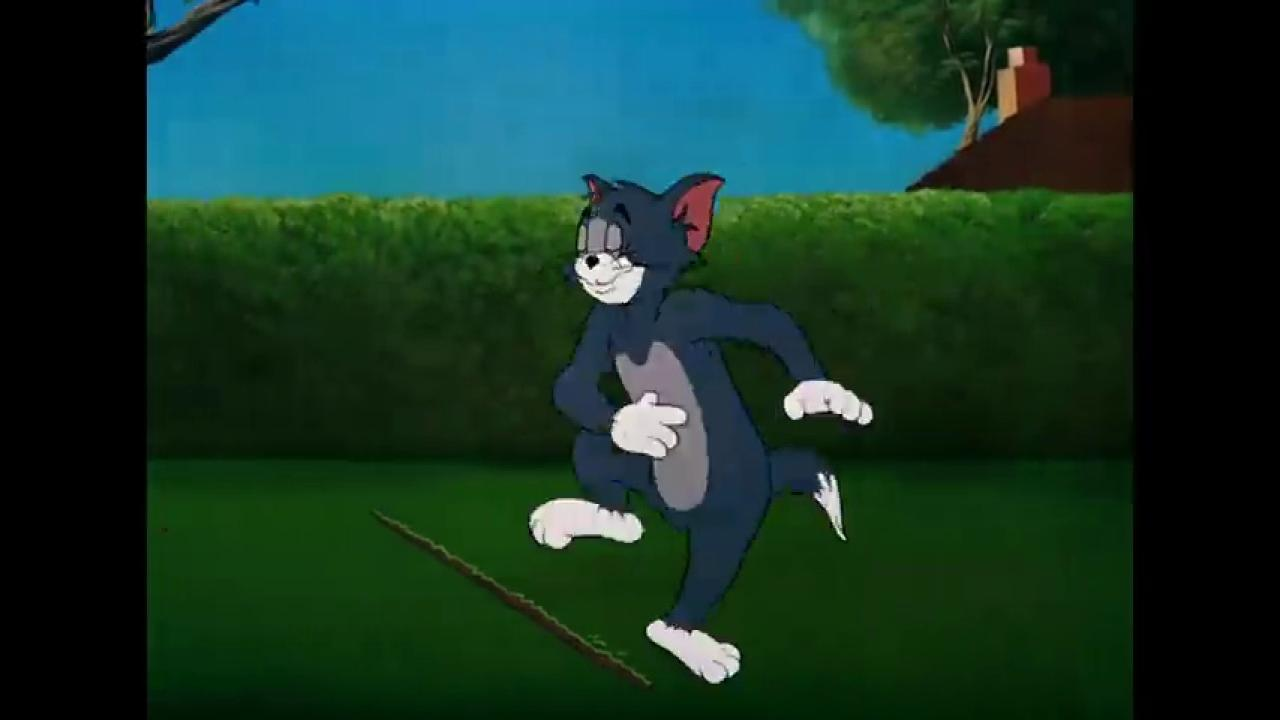Tom: (527, 167, 880, 685)
